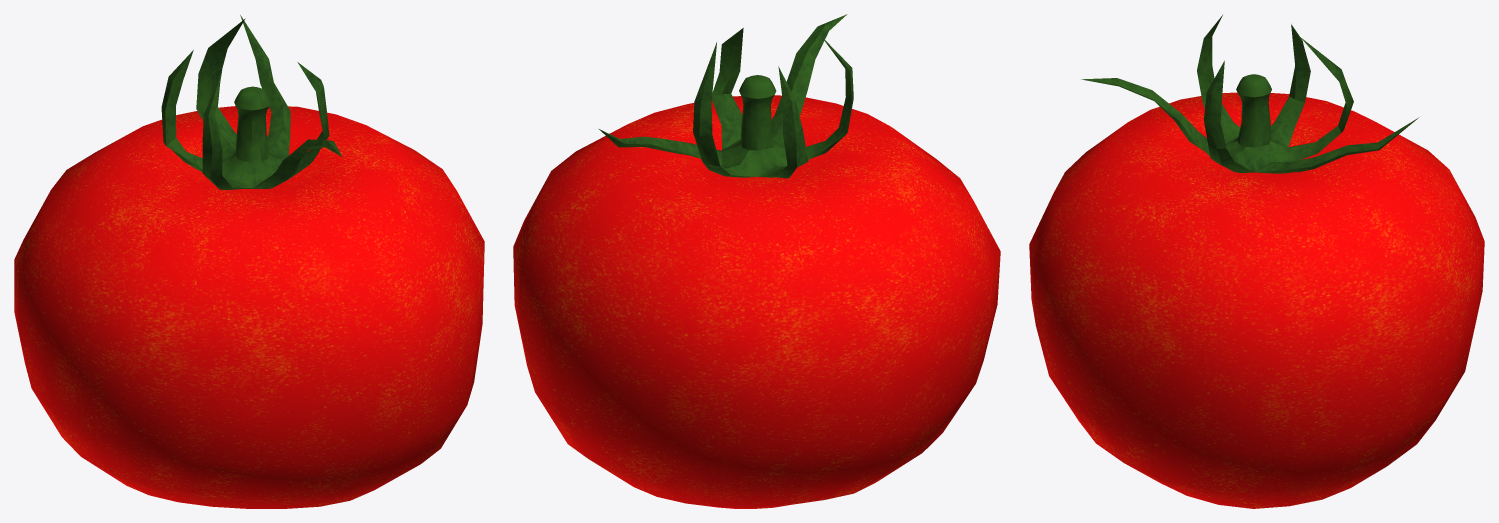
Rendered from tomato02.fbx.
The picture shows the model from 3 angles, left to right: view 1: azimuth 30°, elevation 25°; view 2: azimuth 150°, elevation 25°; view 3: azimuth 270°, elevation 25°; orthographic projection. The views are drawn at different scales.
Parts seen in each view (by area): view 1: Tomato02; view 2: Tomato02; view 3: Tomato02.
Part boxes in pixels (<box>): Tomato02: <box>14,15,484,508</box>; Tomato02: <box>513,14,1000,508</box>; Tomato02: <box>1029,15,1484,508</box>.
Bounding box in the file's own units: 6.4 × 6.71 × 6.22.
1 material, 1 textured.
